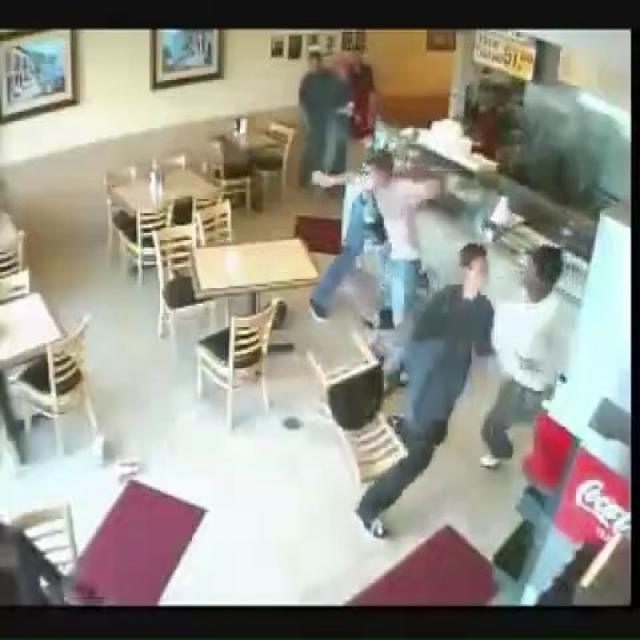fight: (352, 234, 582, 547), (310, 137, 430, 344)
